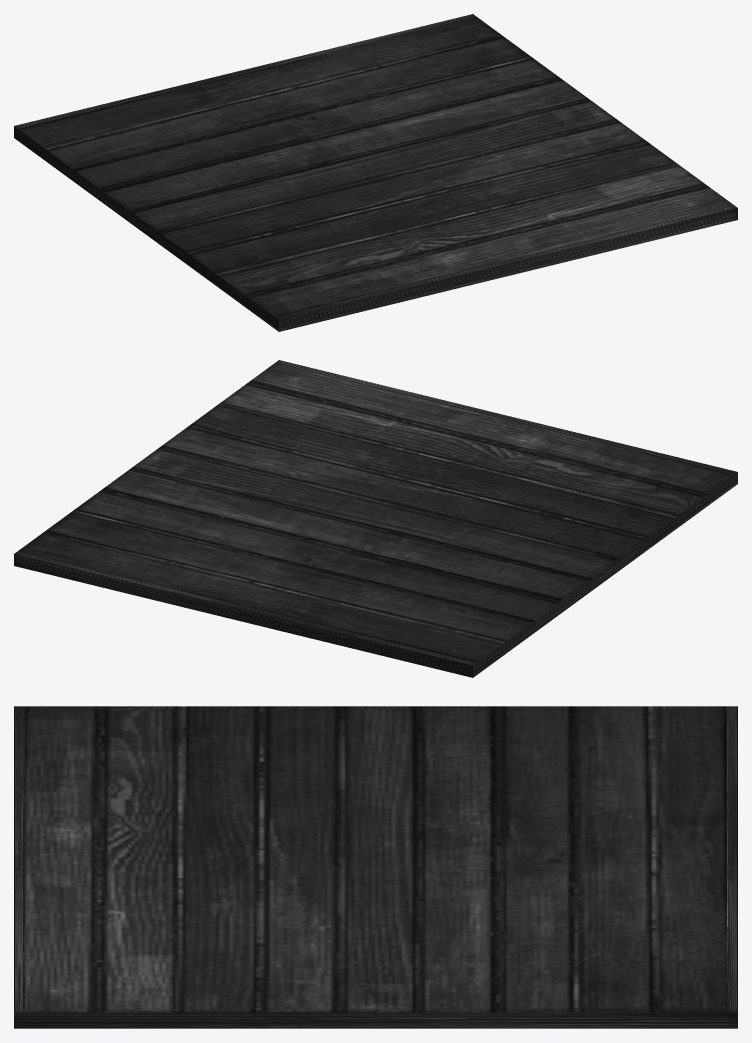
Rendered from Floor.fbx.
The picture shows the model from 3 angles, top to bottom: view 1: azimuth 30°, elevation 25°; view 2: azimuth 150°, elevation 25°; view 3: azimuth 270°, elevation 25°; orthographic projection. The views are drawn at different scales.
Parts seen in each view (by area): view 1: Floor; view 2: Floor; view 3: Floor.
Part boxes in pixels (left/top/right/bottom): Floor: left=14, top=14, right=737, bottom=331; Floor: left=14, top=360, right=737, bottom=677; Floor: left=14, top=706, right=737, bottom=1028.
Size of the model in its own units: 4 by 0.1 by 4.
